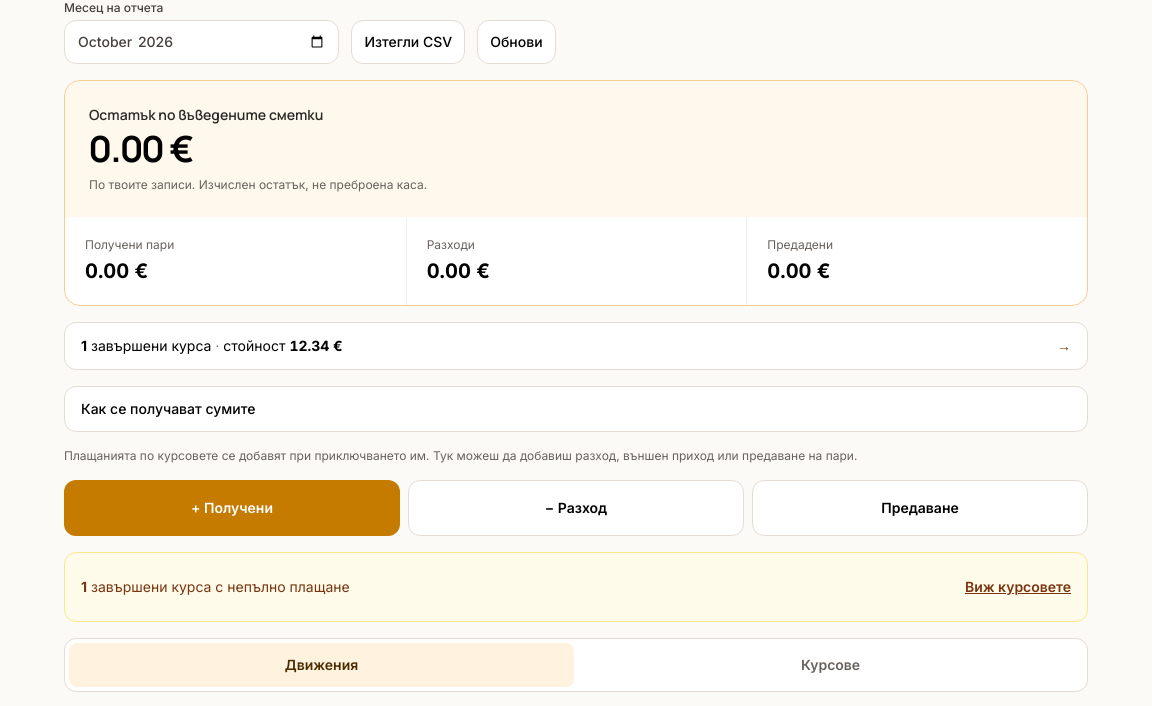
Test: retries an uncertain write with the same operation ID instead of duplicating cash
Click the button "+ Получени".
click(232, 508)  # box [64, 480, 400, 536]
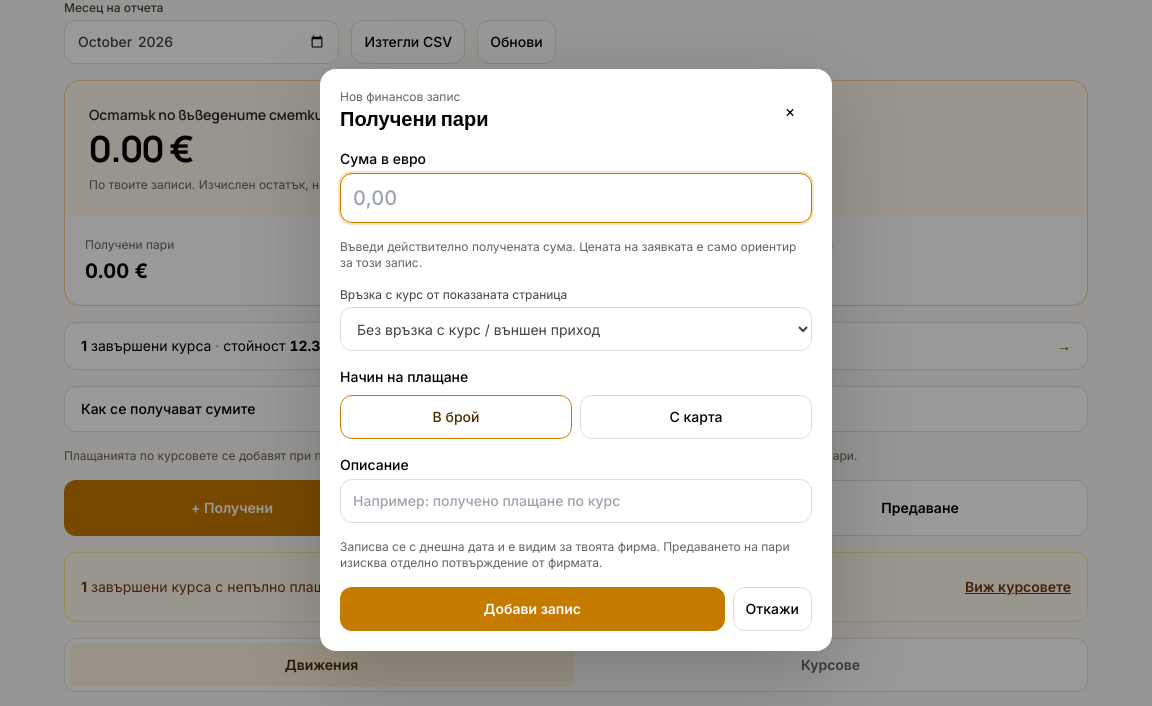
Type "12,50" into the field labelled "Сума в евро".
click(576, 198); type("12,50")  # box [340, 173, 812, 223]
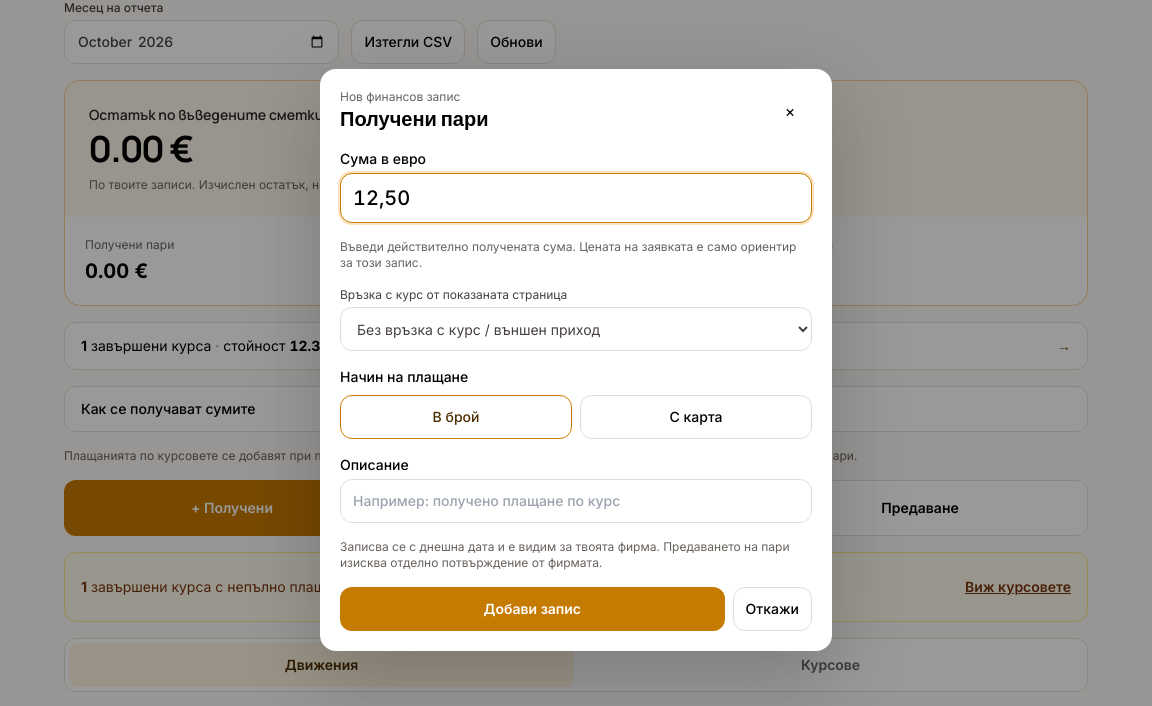
Type "Cash received" into the field labelled "Описание".
click(576, 501); type("Cash received")  # box [340, 479, 812, 523]
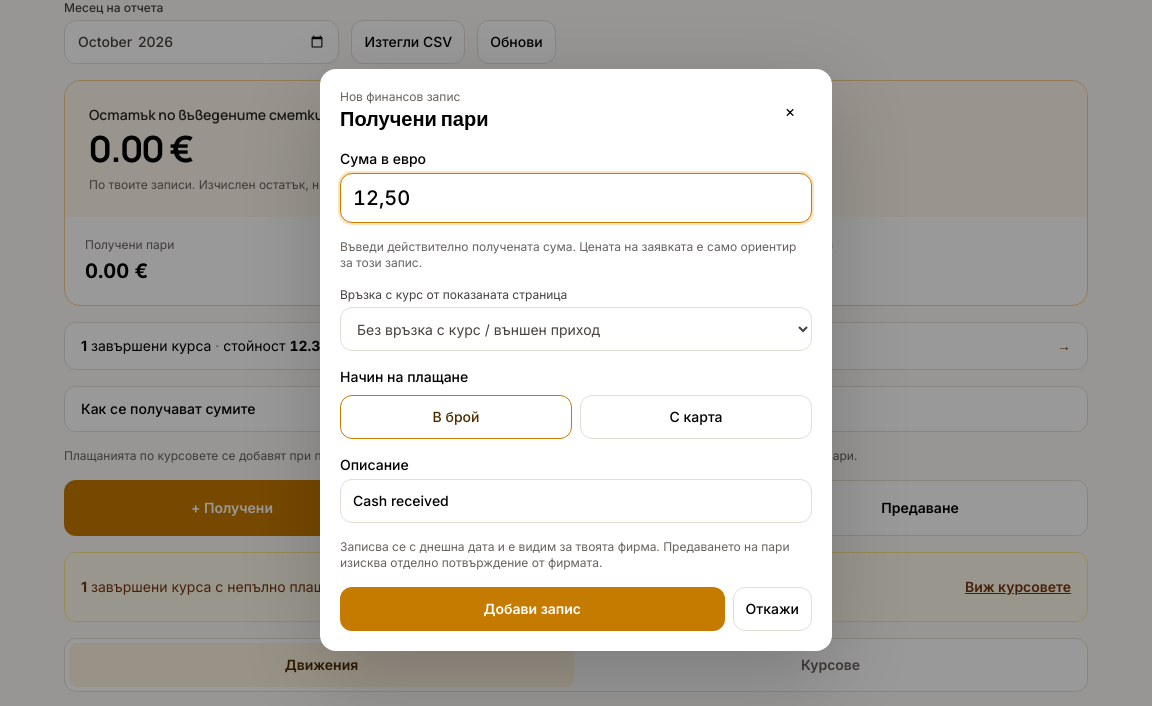
Click the button "Добави запис".
click(532, 609)  # box [340, 587, 725, 631]
(page scrolled)
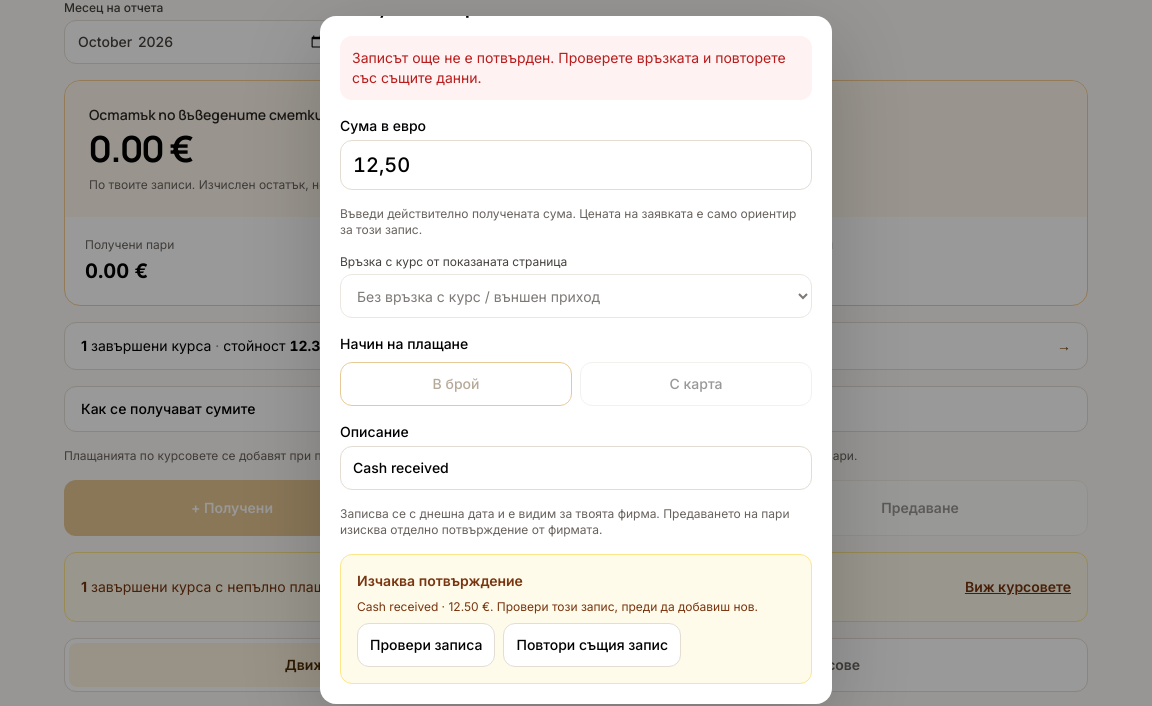
expect the message "Записът още не е потвърден. Проверете връзката и повторете със същите данни." is shown: met, box [340, 36, 812, 100]
Click the button "Повтори същия запис".
click(592, 645)  # box [504, 623, 681, 667]
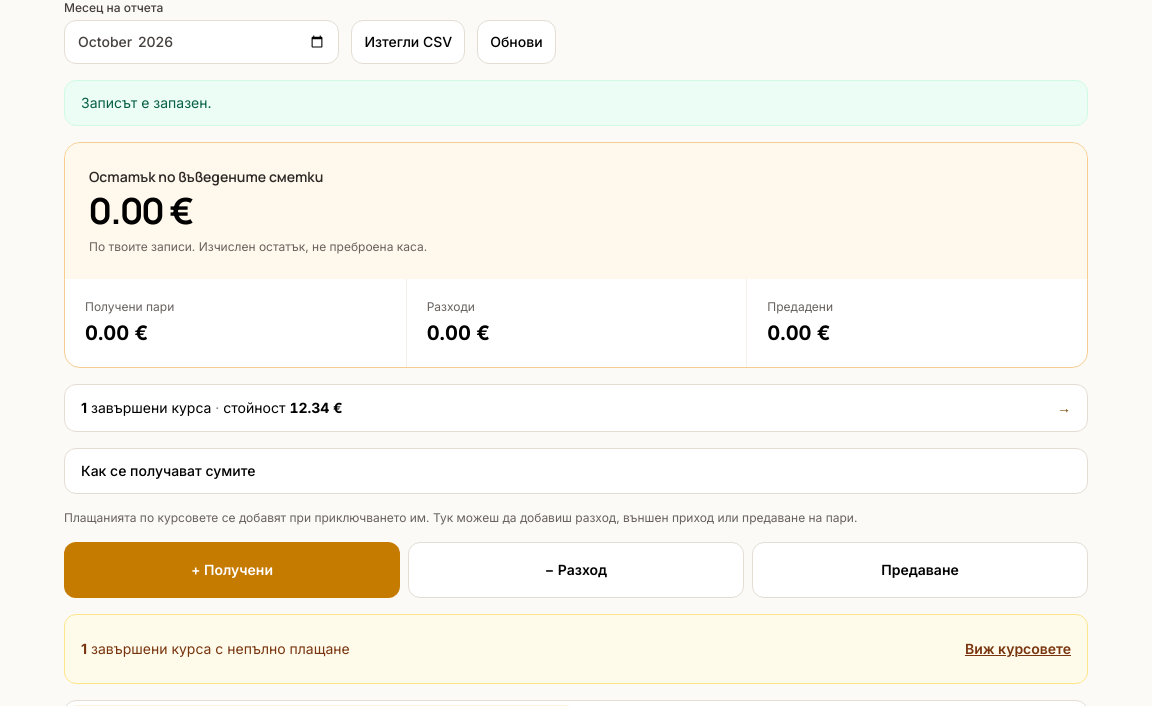
expect the text "Записът е запазен." is shown: met, box [64, 80, 1088, 126]
